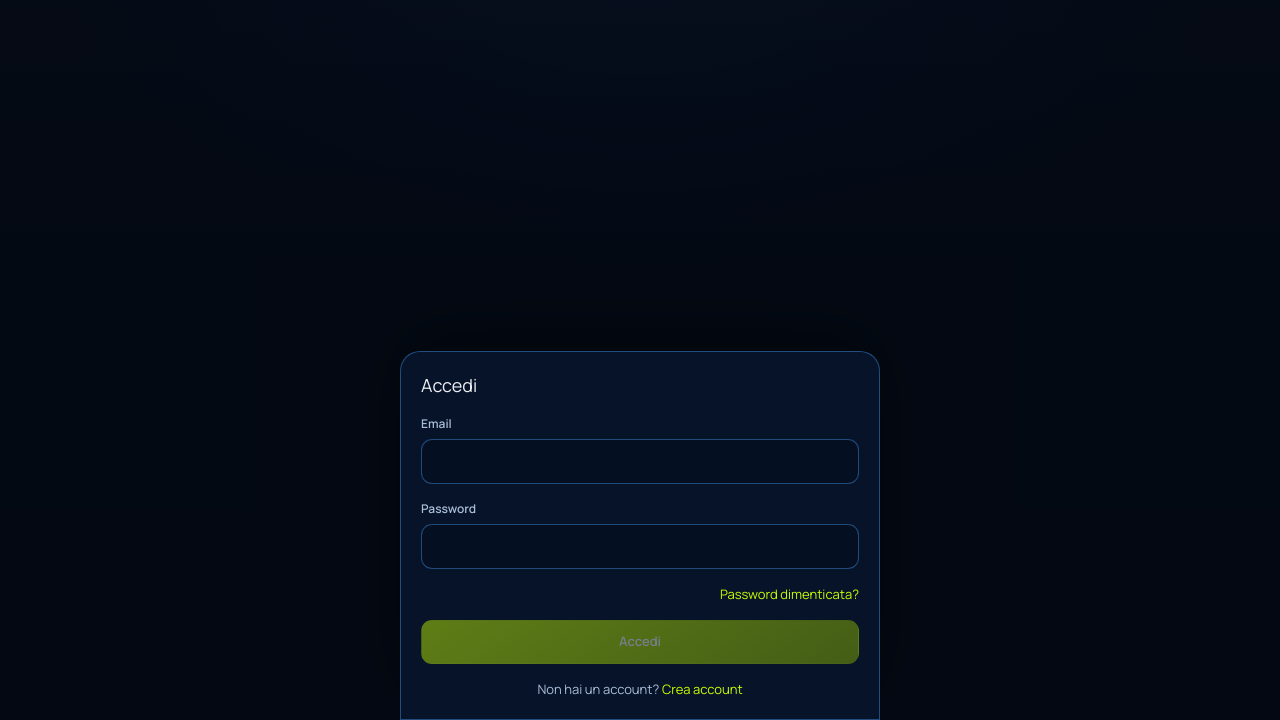
it: LoginSheet › submit disabilitato finché email+password non sono compilate
Check: the button "Accedi" is disabled, box [421,620,859,664]
Type "a@b.c" into the field labelled "Email" at x=640, y=461, box [421,438,859,484]
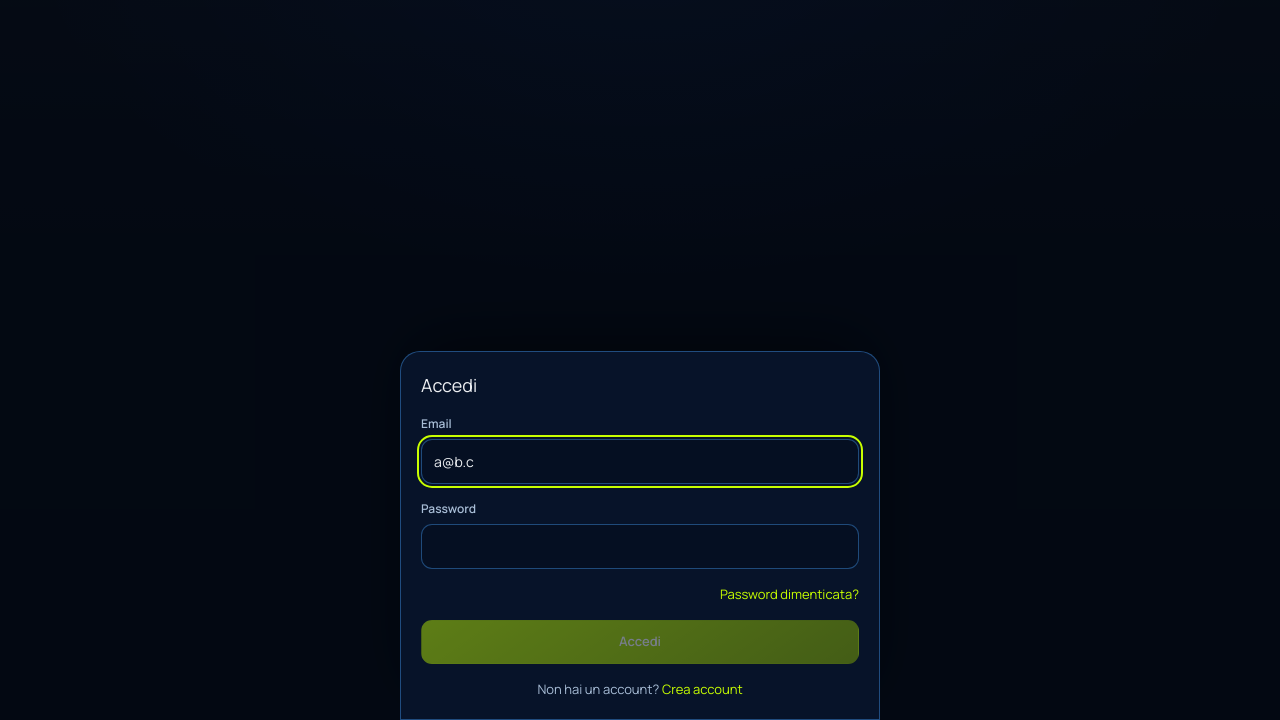
Type "supersecret1" into the password field labelled "Password" at x=640, y=546, box [421,524,859,568]
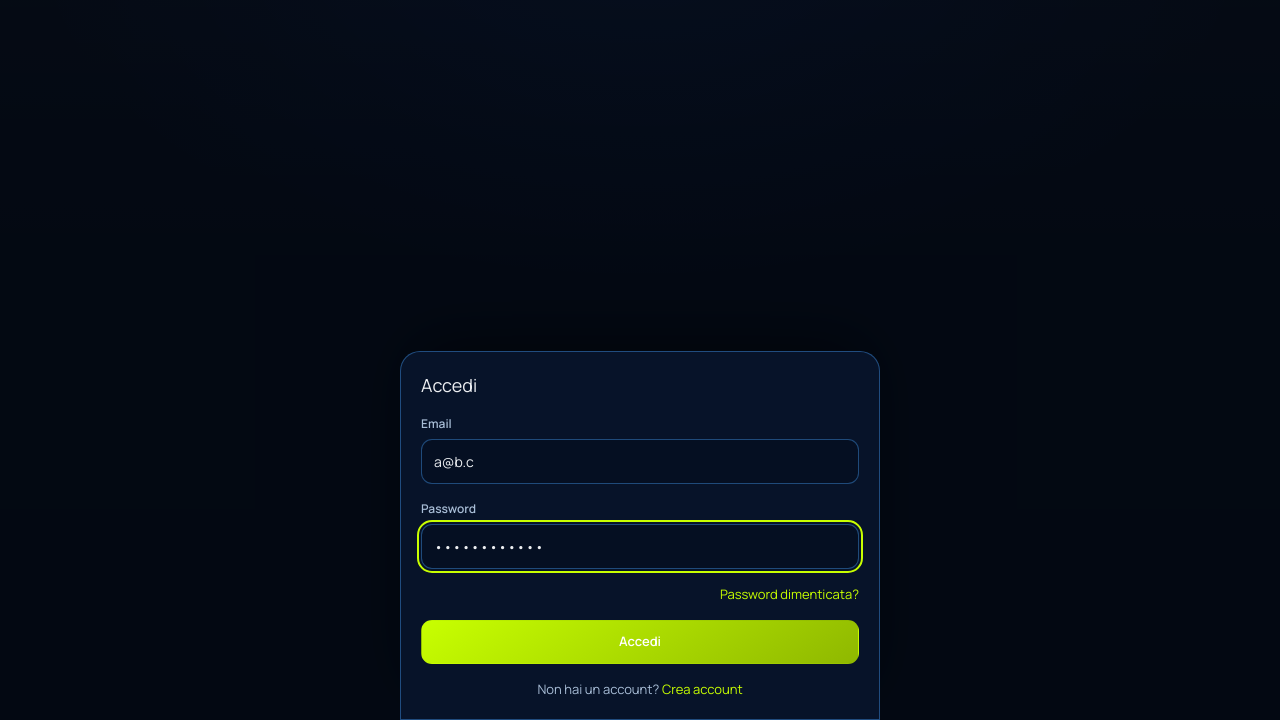
Check: the button "Accedi" is enabled, box [421,620,859,664]
